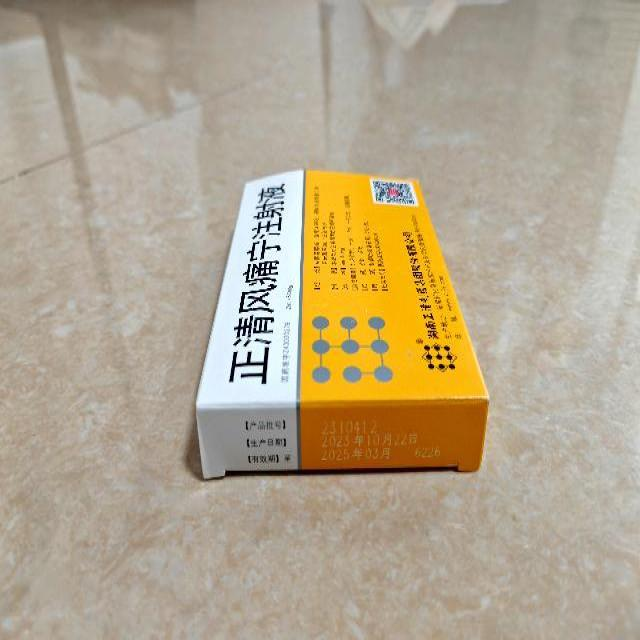box: (195, 168, 491, 476)
